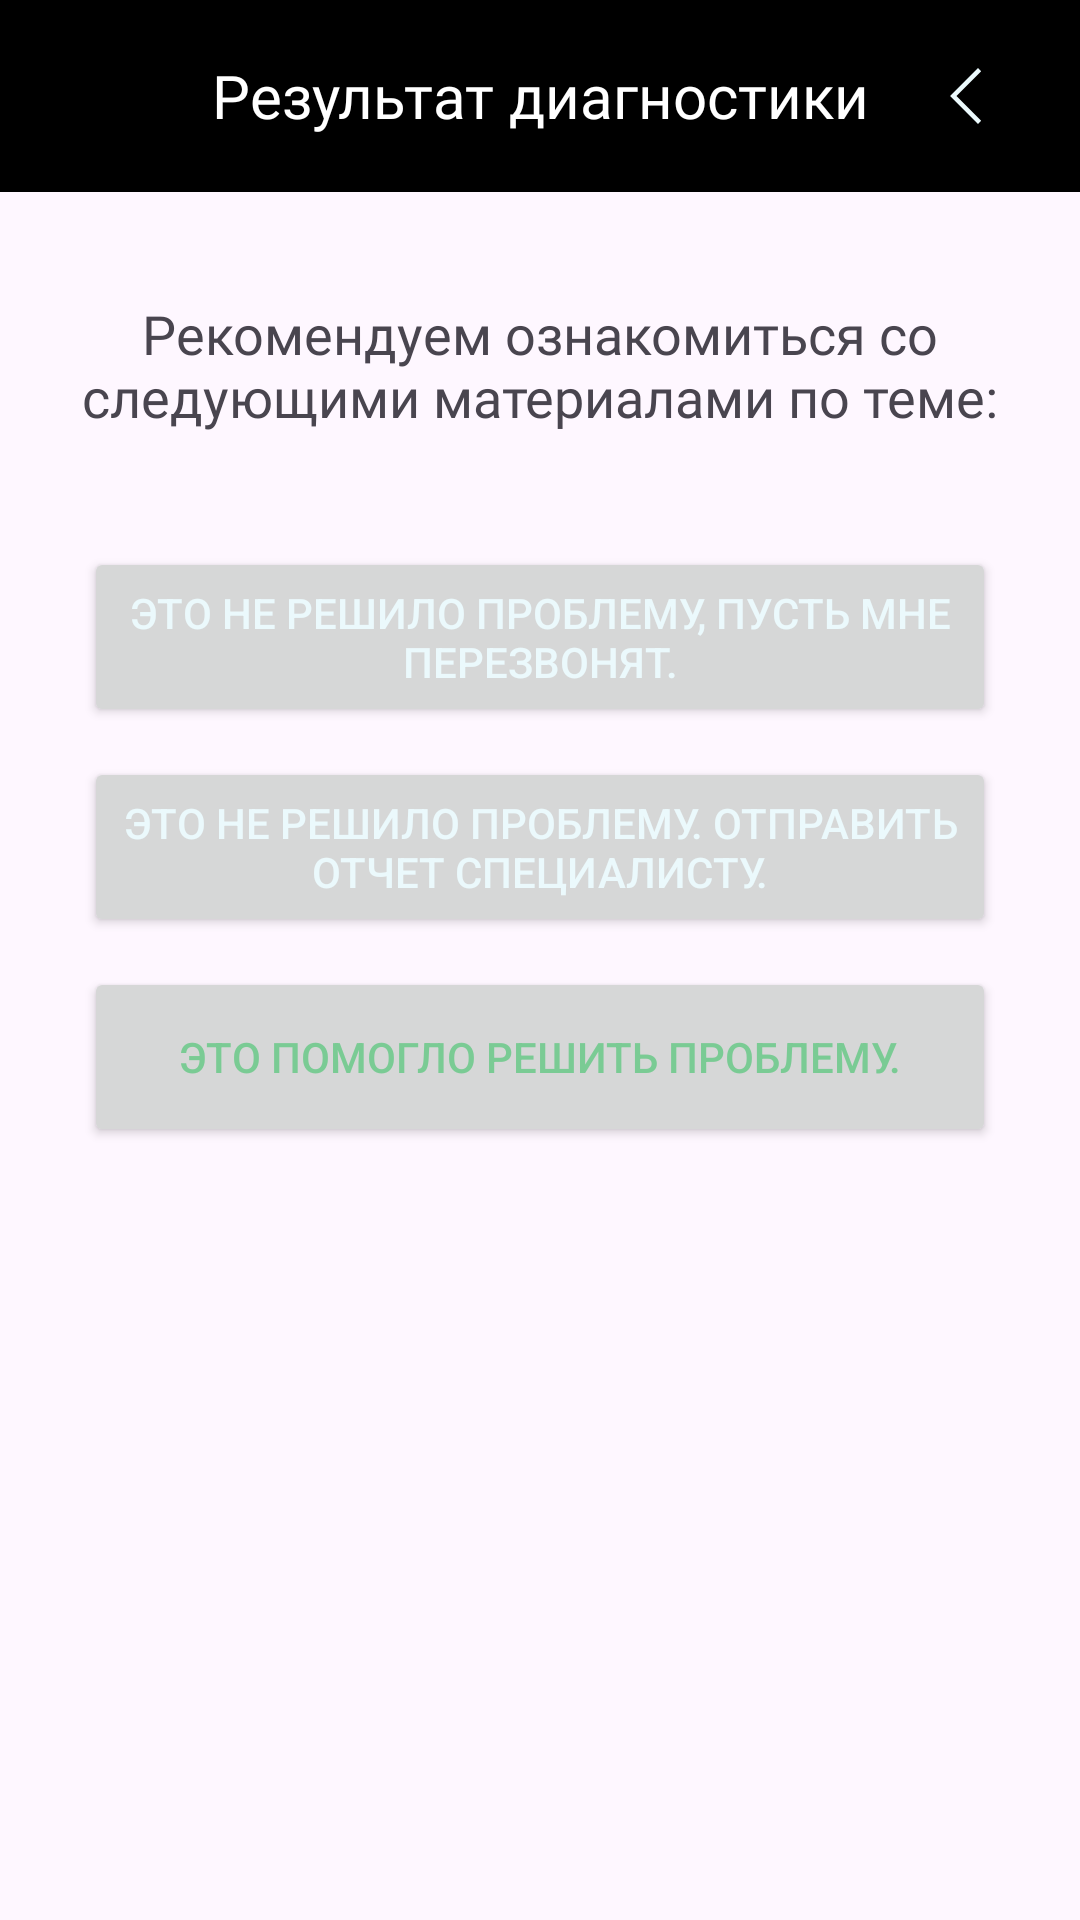

Icon click points for this 1080×1920 phone screenshot, format (x,y):
back: (965,96)
